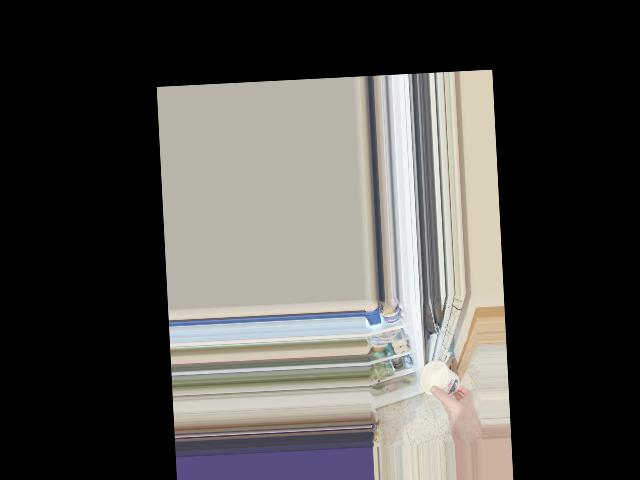cotage: (421, 359, 462, 398)
